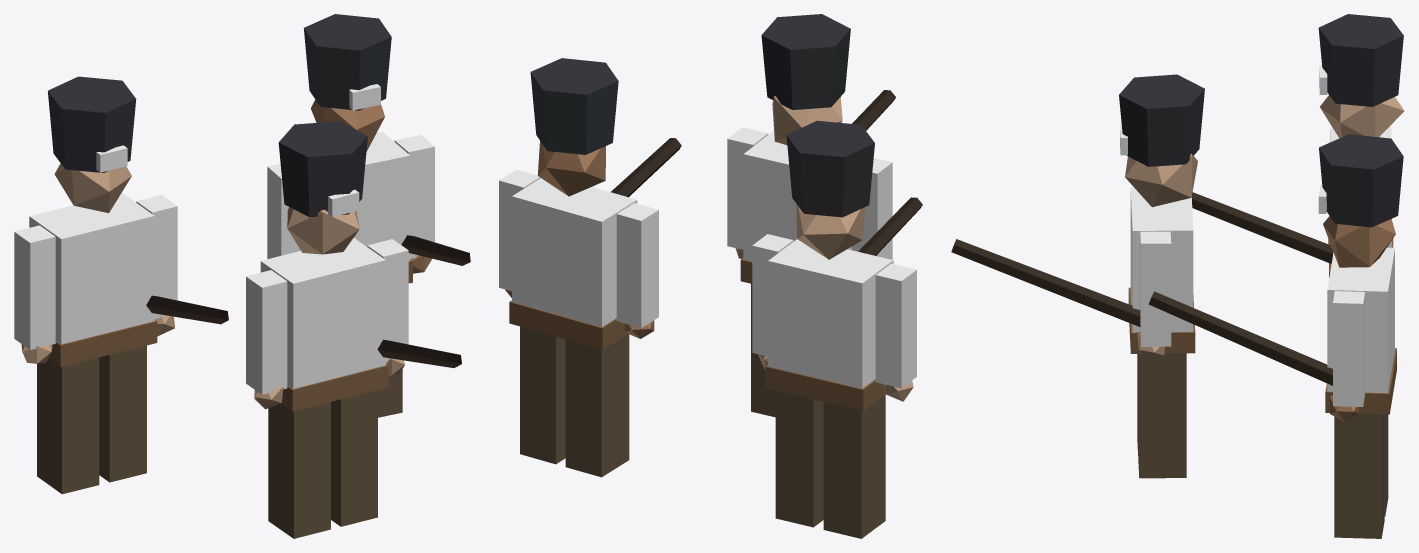
The model's file is Rifleman.glb.
3 views of the same model, side by side, from view 1: azimuth 30°, elevation 25°; view 2: azimuth 150°, elevation 25°; view 3: azimuth 270°, elevation 25° (orthographic). The views are drawn at different scales.
Visible parts, largest first — view 1: Units_Rifleman; view 2: Units_Rifleman; view 3: Units_Rifleman.
Part boxes in pixels (box(x1,y1,x2,y2)): Units_Rifleman: box(14, 14, 470, 538); Units_Rifleman: box(499, 14, 922, 538); Units_Rifleman: box(951, 14, 1404, 538).
Bounding box in the file's own units: 0.2384 × 0.213 × 0.2388.
